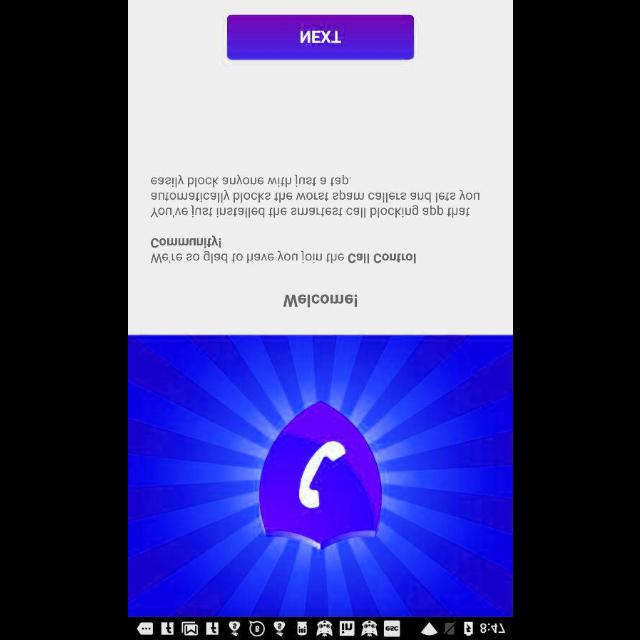image: (128, 336, 512, 616)
text: (150, 174, 480, 218), (150, 234, 416, 264), (282, 294, 358, 308)
textbutton: (226, 15, 414, 60)
uppertaskbar: (128, 617, 512, 639)
